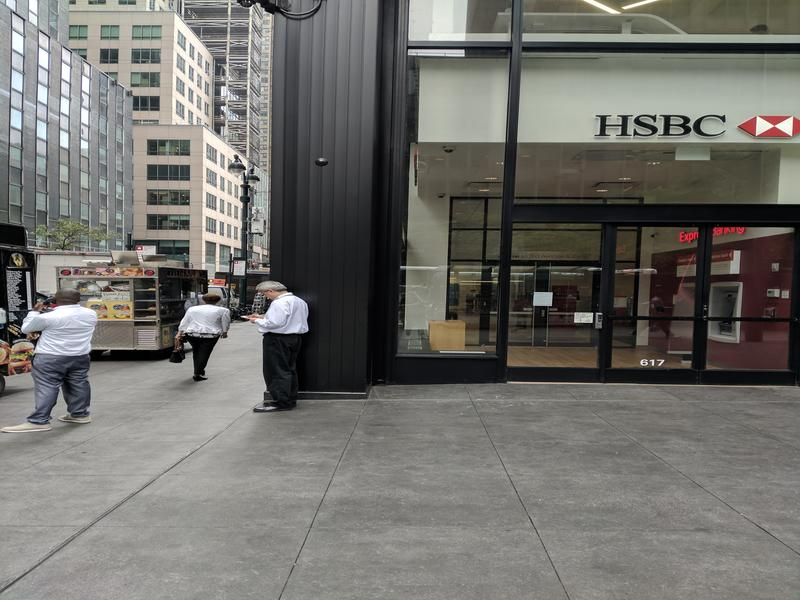double_door: (603, 208, 797, 385)
